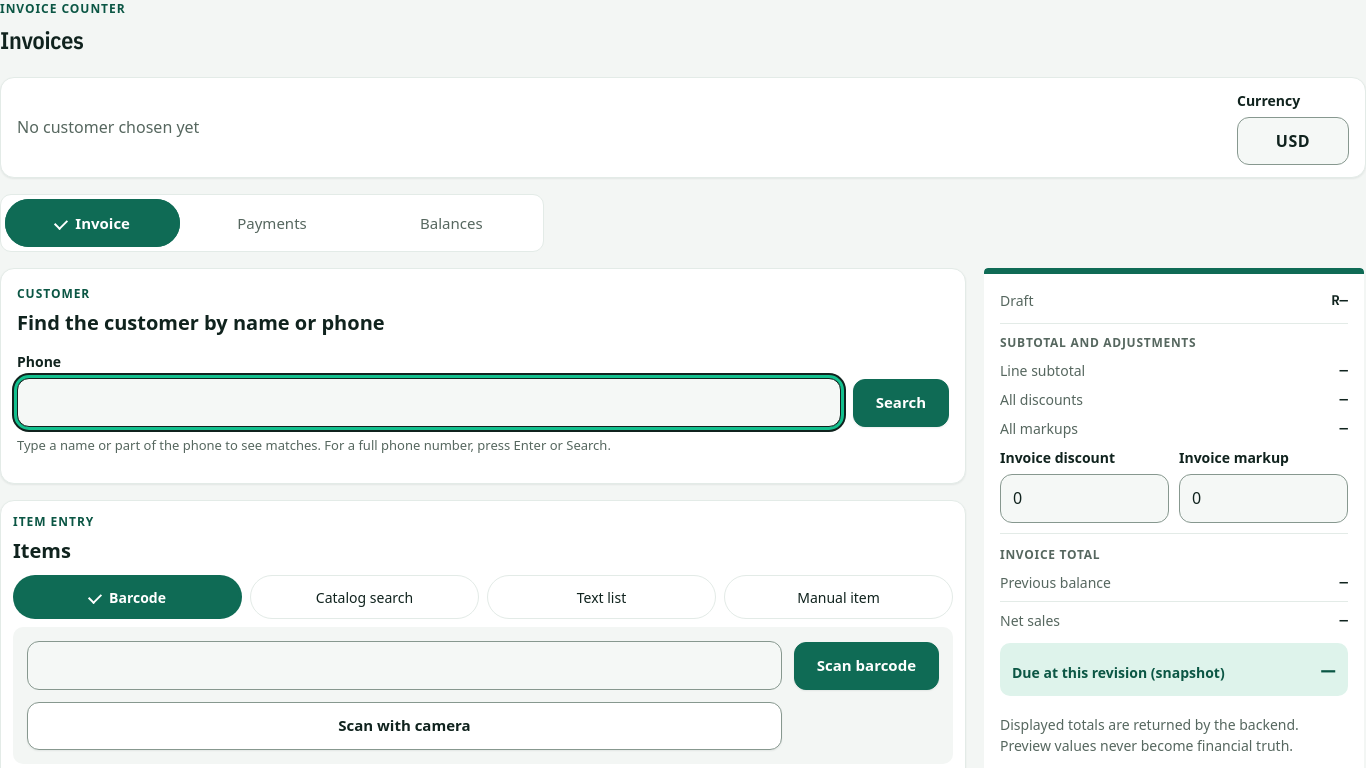
it: a debt row records a payment for that customer in that currency when no invoice is in progress
Click the button "Balances" at [451, 223], box [364, 199, 539, 247]
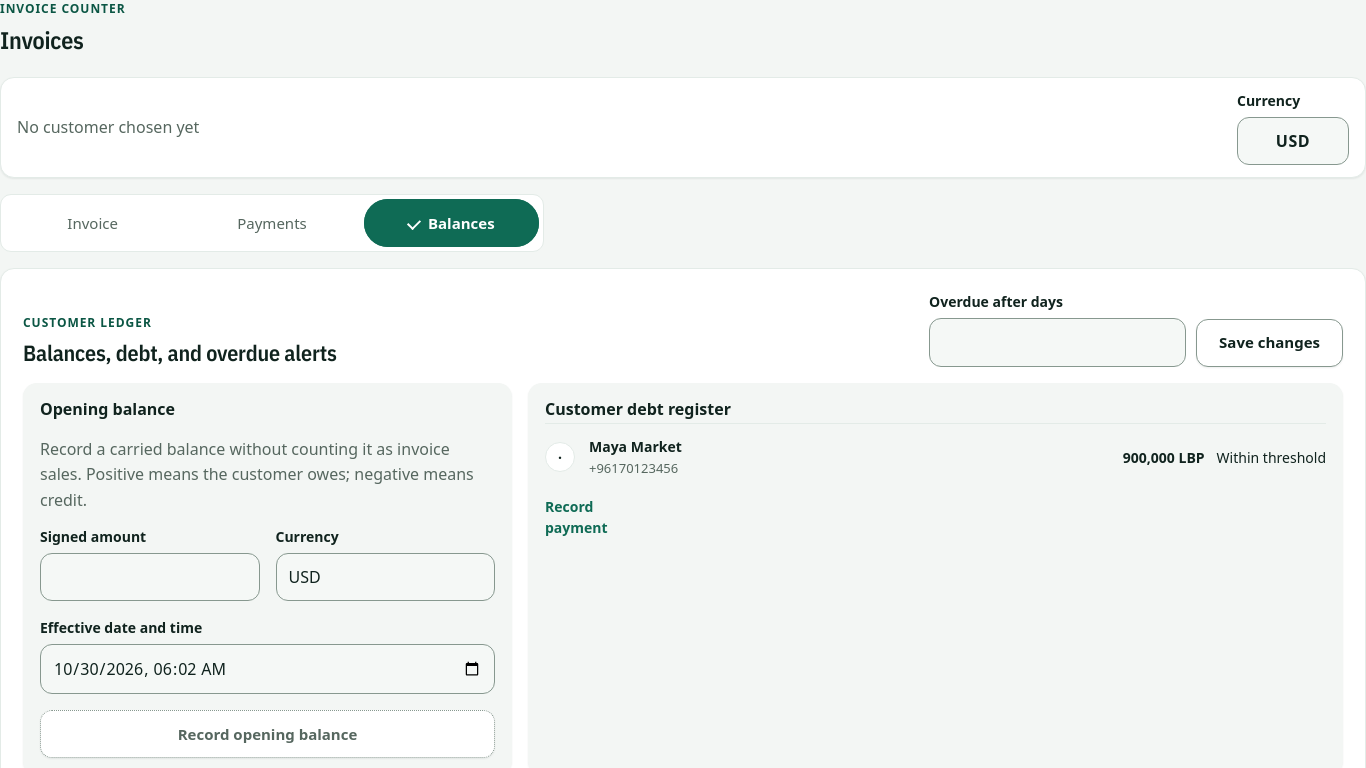
Click the button "Record payment" at [561, 517], box [545, 490, 577, 544]
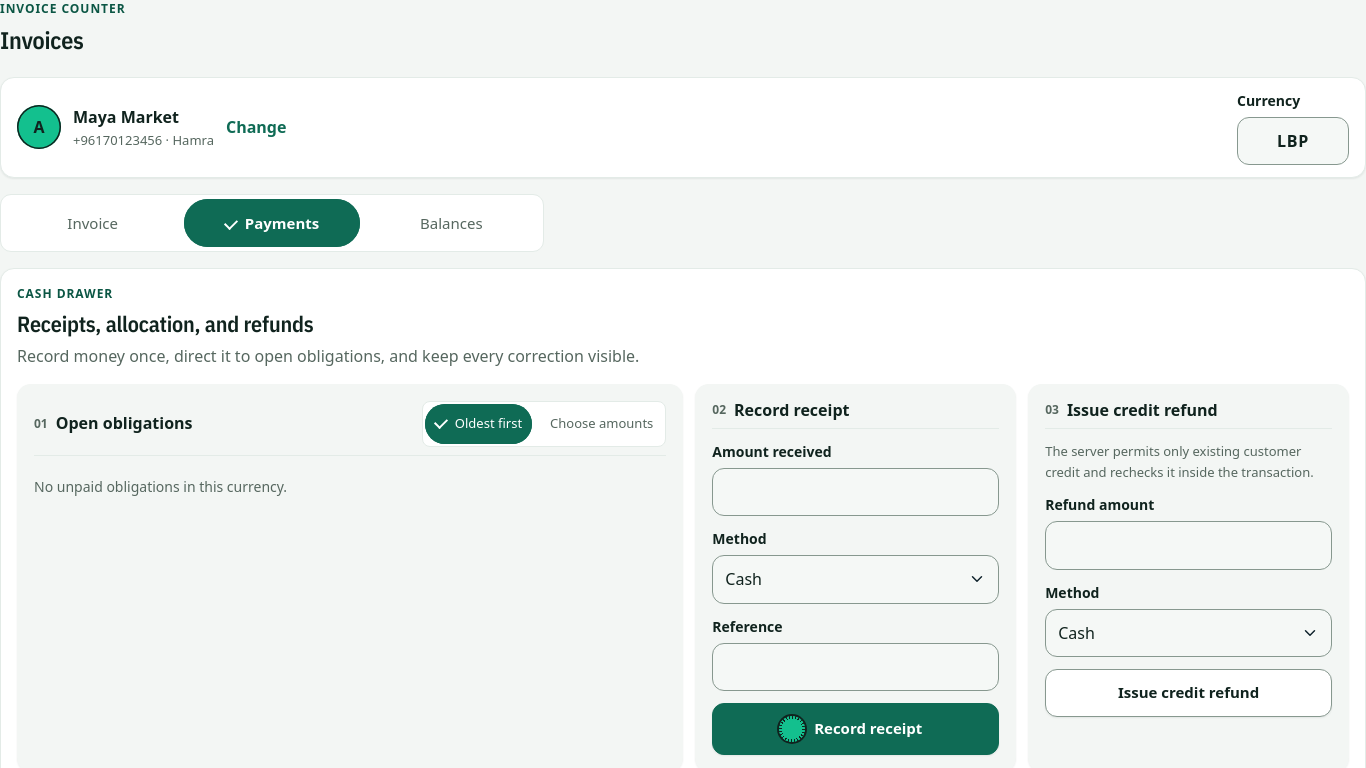
Now the field labelled "Currency" holds "LBP", box [1237, 117, 1349, 165]
